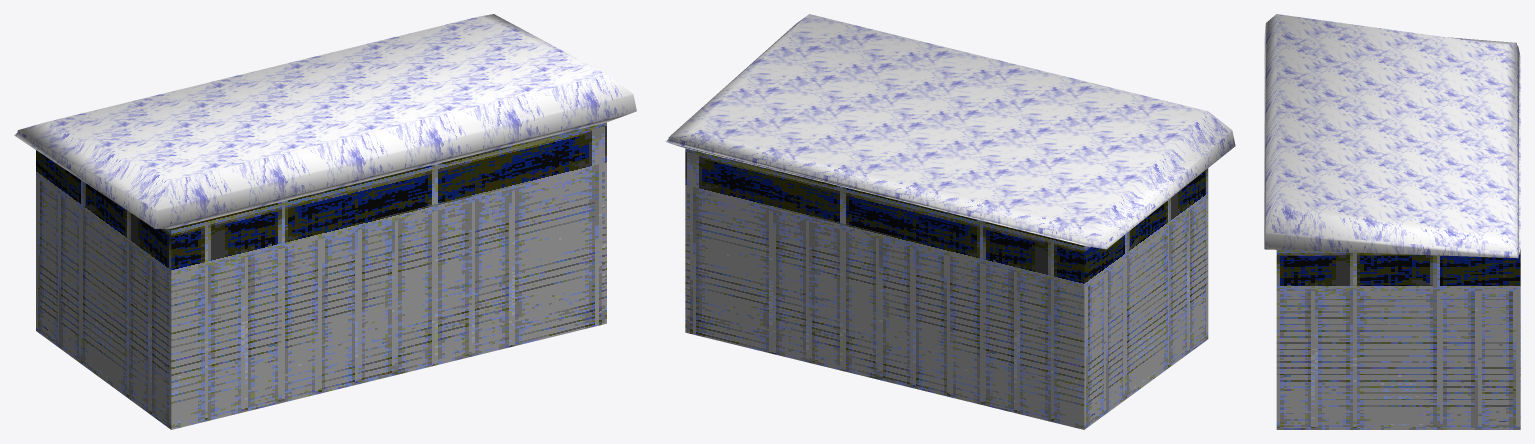
File: kp_katos.glb
3 renders of one model, left to right at view 1: azimuth 30°, elevation 25°; view 2: azimuth 150°, elevation 25°; view 3: azimuth 270°, elevation 25°, orthographic. The views are drawn at different scales.
Parts seen in each view (by area): view 1: katos-col; view 2: katos-col; view 3: katos-col.
Part boxes in pixels (x1=…): katos-col: x1=14, y1=14, x2=636, y2=429; katos-col: x1=665, y1=14, x2=1235, y2=429; katos-col: x1=1264, y1=14, x2=1520, y2=429.
Size of the model in its own units: 6.16 by 3.04 by 3.15.
2 materials, 2 textured.
